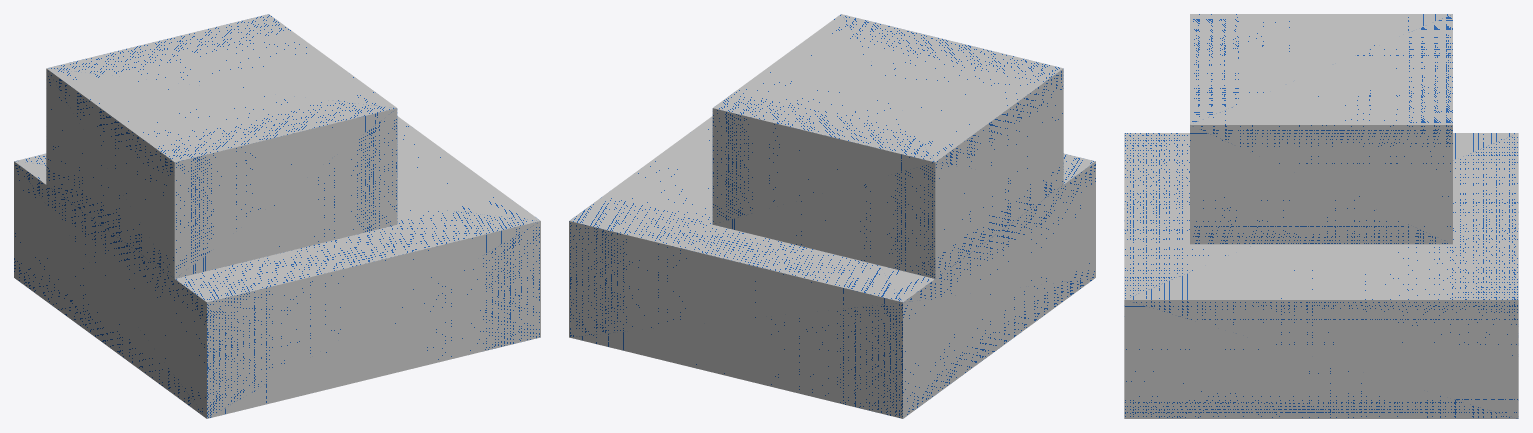
The model's file is diamond-fragment.fbx.
3 renders of one model, left to right at view 1: azimuth 30°, elevation 25°; view 2: azimuth 150°, elevation 25°; view 3: azimuth 270°, elevation 25°, orthographic. The views are drawn at different scales.
Parts seen in each view (by area): view 1: generated; view 2: generated; view 3: generated.
Boxes of the visible parts, x1,y1,x2,y2 form: generated: (14,14,540,418); generated: (569,14,1095,418); generated: (1124,14,1518,418).
Bounding box in the file's own units: 30 × 20 × 30.
Materials: 1 (1 with a texture image).
